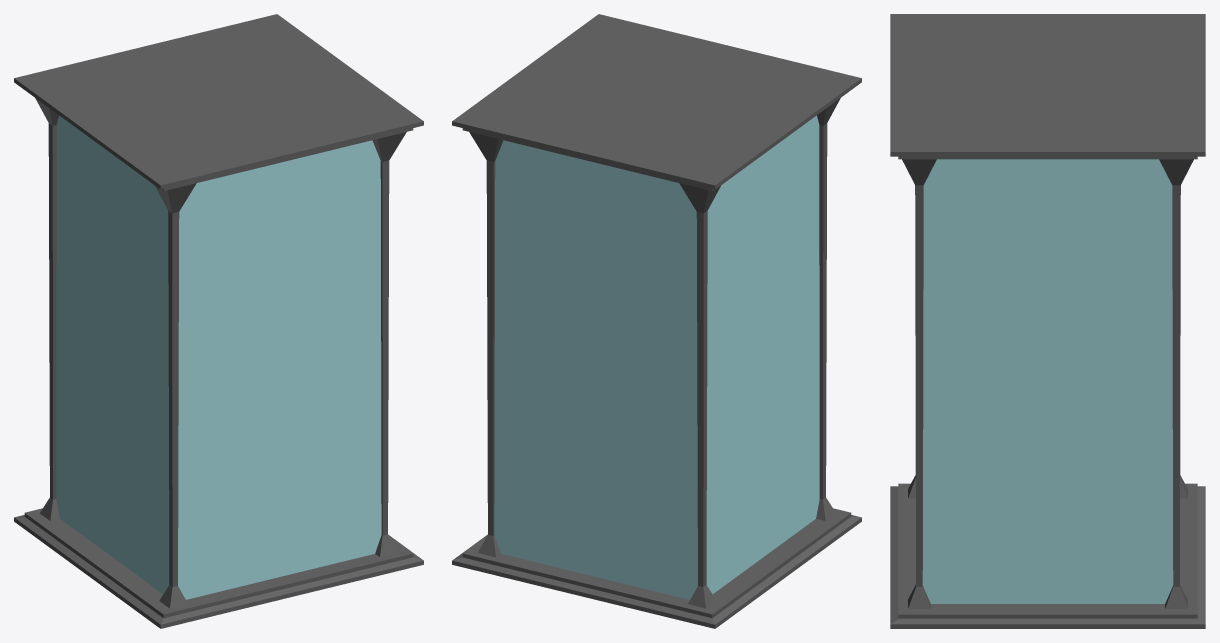
Rendered from sensor.fbx.
3 renders of one model, left to right at view 1: azimuth 30°, elevation 25°; view 2: azimuth 150°, elevation 25°; view 3: azimuth 270°, elevation 25°, orthographic. The views are drawn at different scales.
Parts seen in each view (by area): view 1: Cube; view 2: Cube; view 3: Cube.
Part boxes in pixels (x1,y1,x2,y2): Cube: [14, 14, 423, 628]; Cube: [452, 14, 861, 628]; Cube: [890, 14, 1205, 628].
Size of the model in its own units: 217 by 350 by 210.
